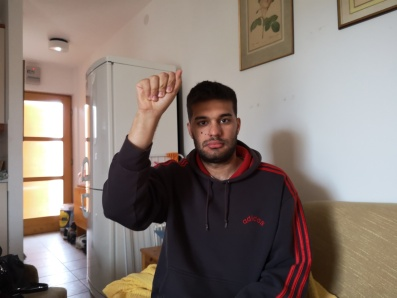A: (133, 68, 184, 114)
